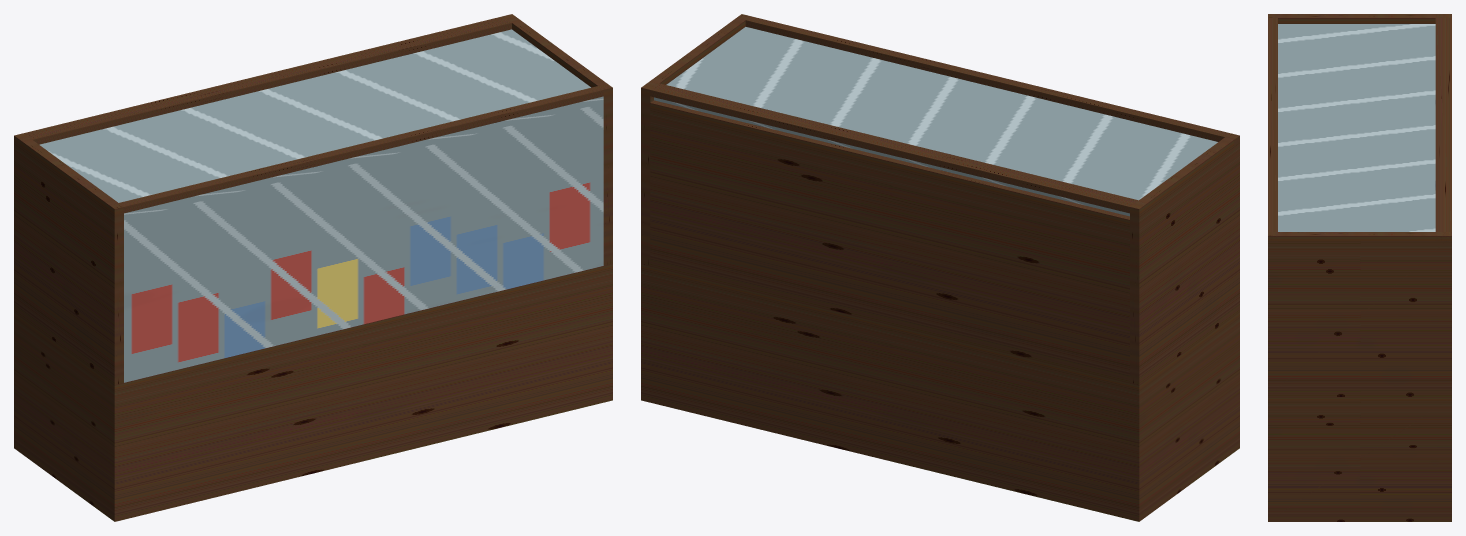
File: showcase.glb
3 renders of one model, left to right at view 1: azimuth 30°, elevation 25°; view 2: azimuth 150°, elevation 25°; view 3: azimuth 270°, elevation 25°, orthographic. The views are drawn at different scales.
Parts seen in each view (by area): view 1: showcase; view 2: showcase; view 3: showcase.
Boxes of the visible parts, <box> form: showcase: <box>14,14,612,521</box>; showcase: <box>641,14,1239,521</box>; showcase: <box>1268,14,1451,521</box>.
Bounding box in the file's own units: 1.6 × 0.96 × 0.56.
1 material, 1 textured.
